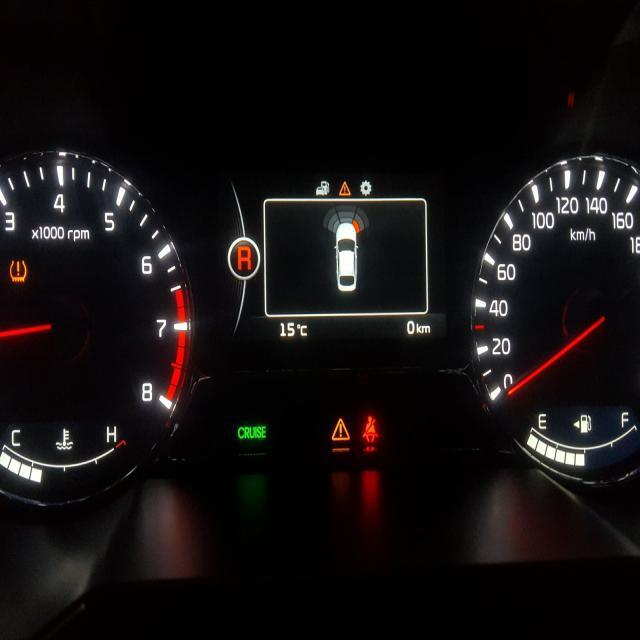Central Warning lamp: (330, 418, 350, 440), (338, 180, 350, 196)
